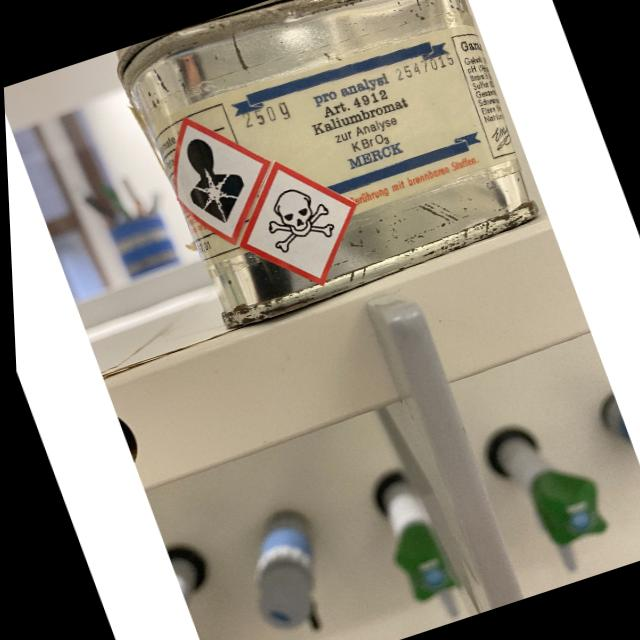acute toxicity: (250, 177, 339, 258)
serious health hazard: (167, 128, 257, 232)
